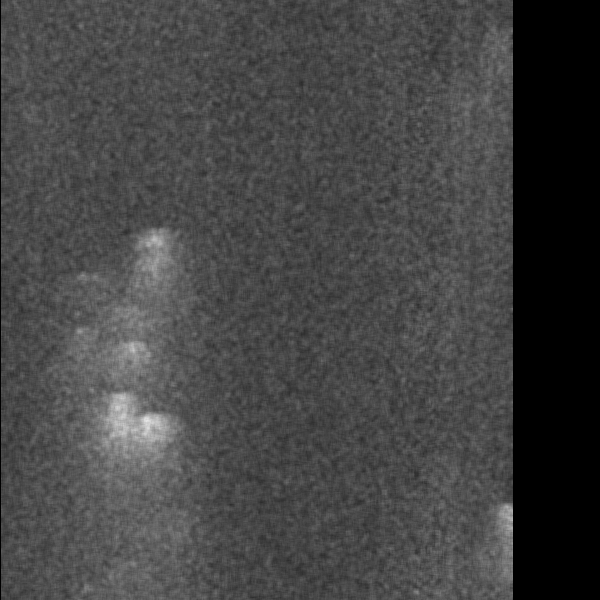spark: (360, 185, 411, 225)
